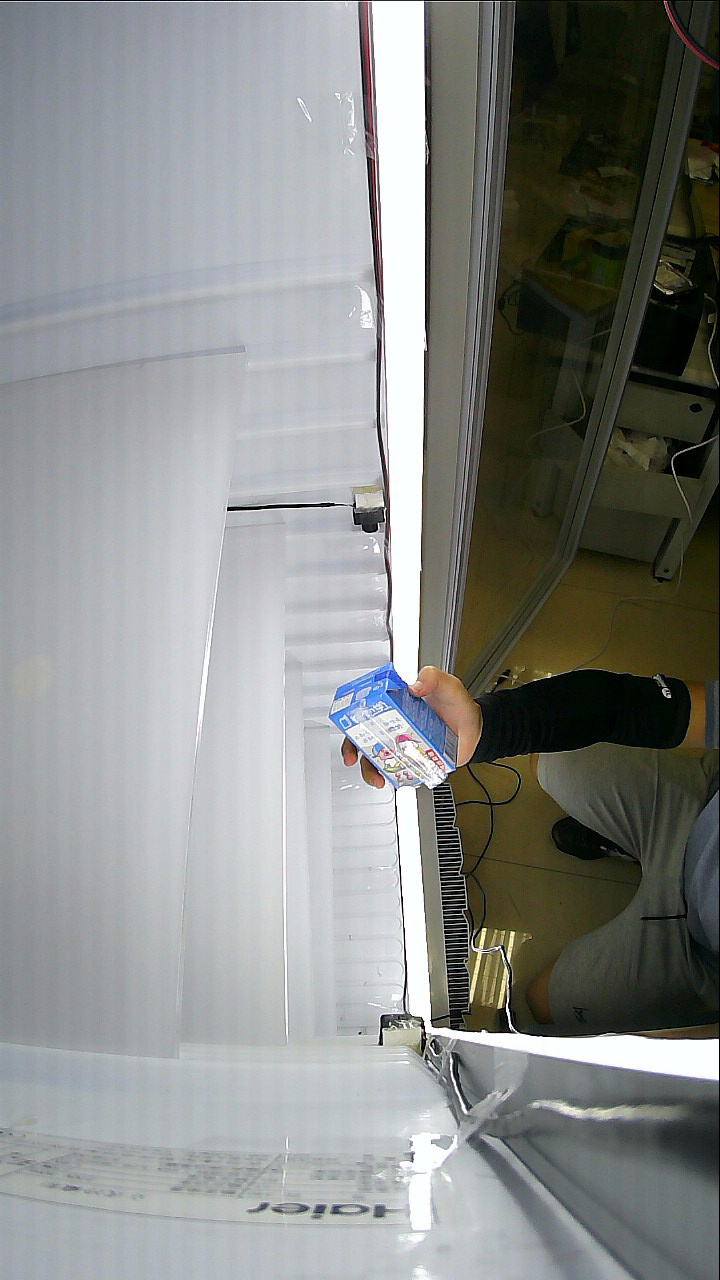VitaSoyOriginal: (334, 661, 534, 792)
